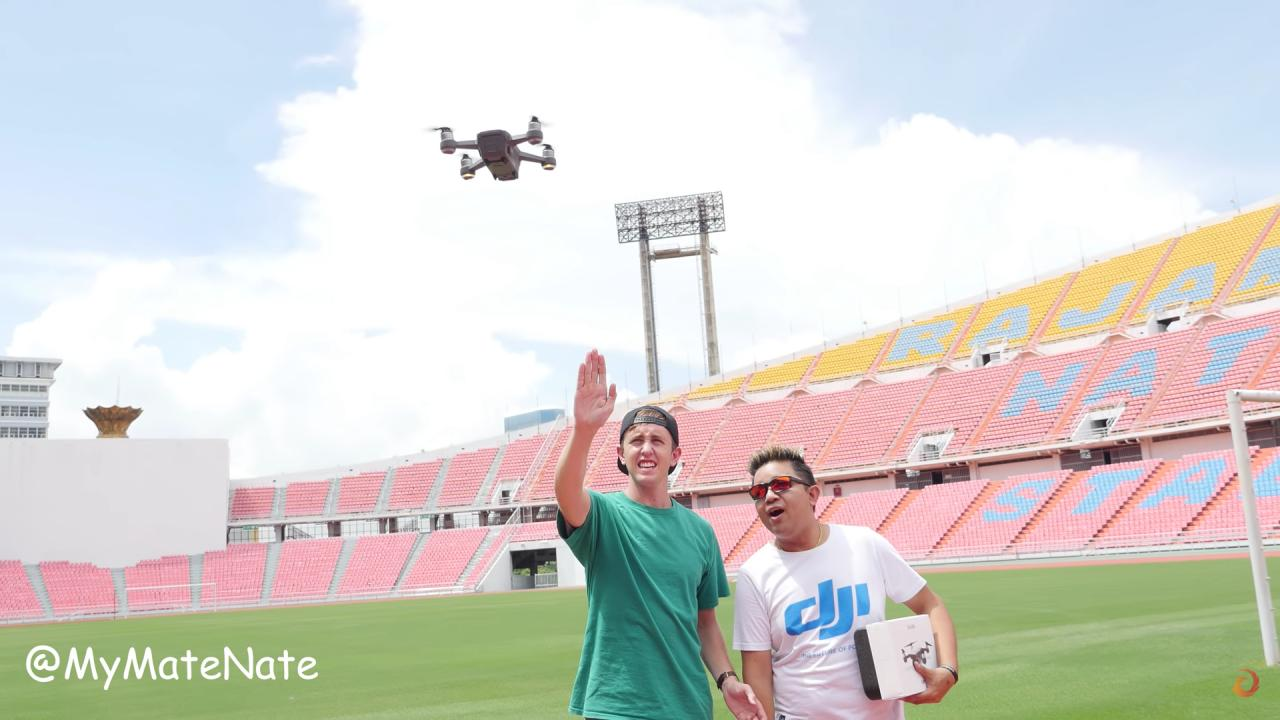Drone: (403, 99, 580, 198)
